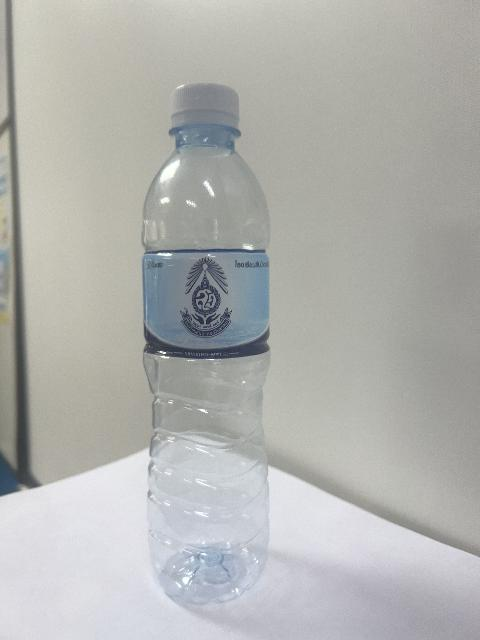bottle: (143, 84, 269, 603)
